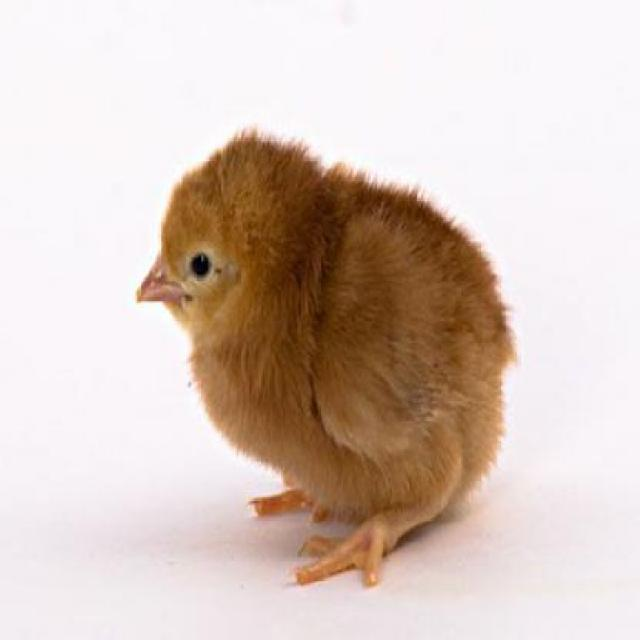poussin: (124, 126, 515, 590)
